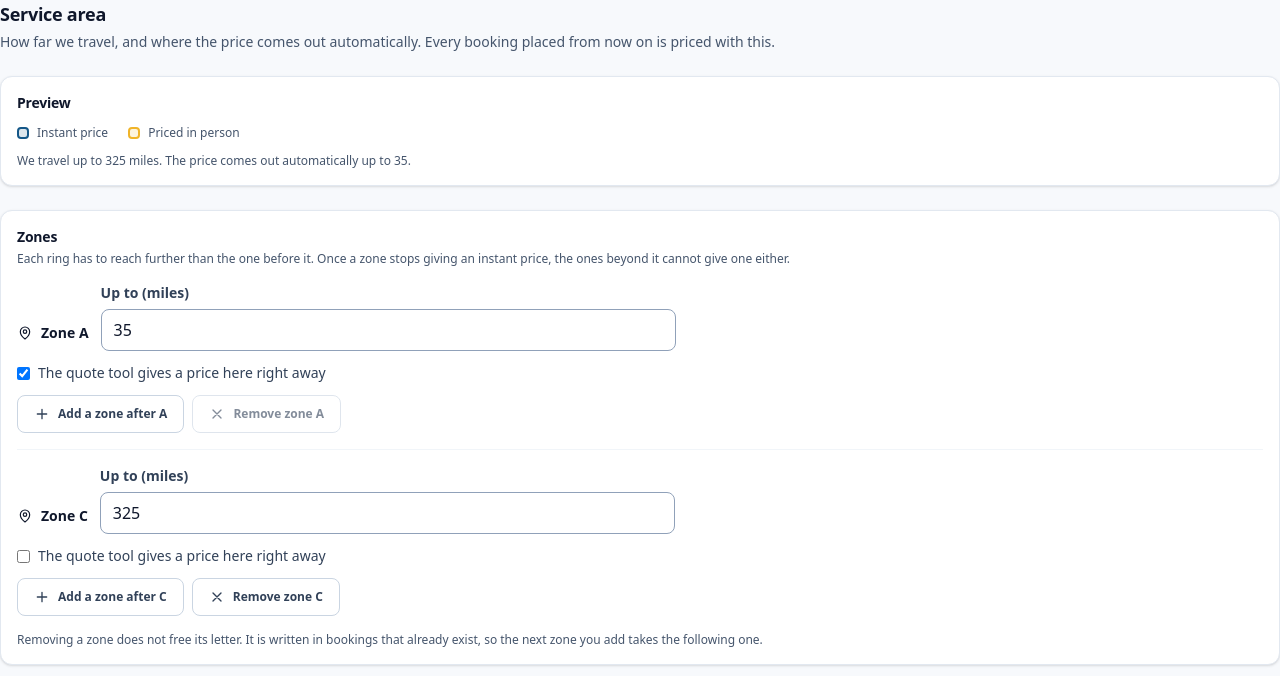
it: el area de servicio: anadir y quitar zonas › anade la banda intermedia entre las dos, a mitad de camino
Click the button "Add a zone after A" at x=101, y=414, box [17,395,184,433]
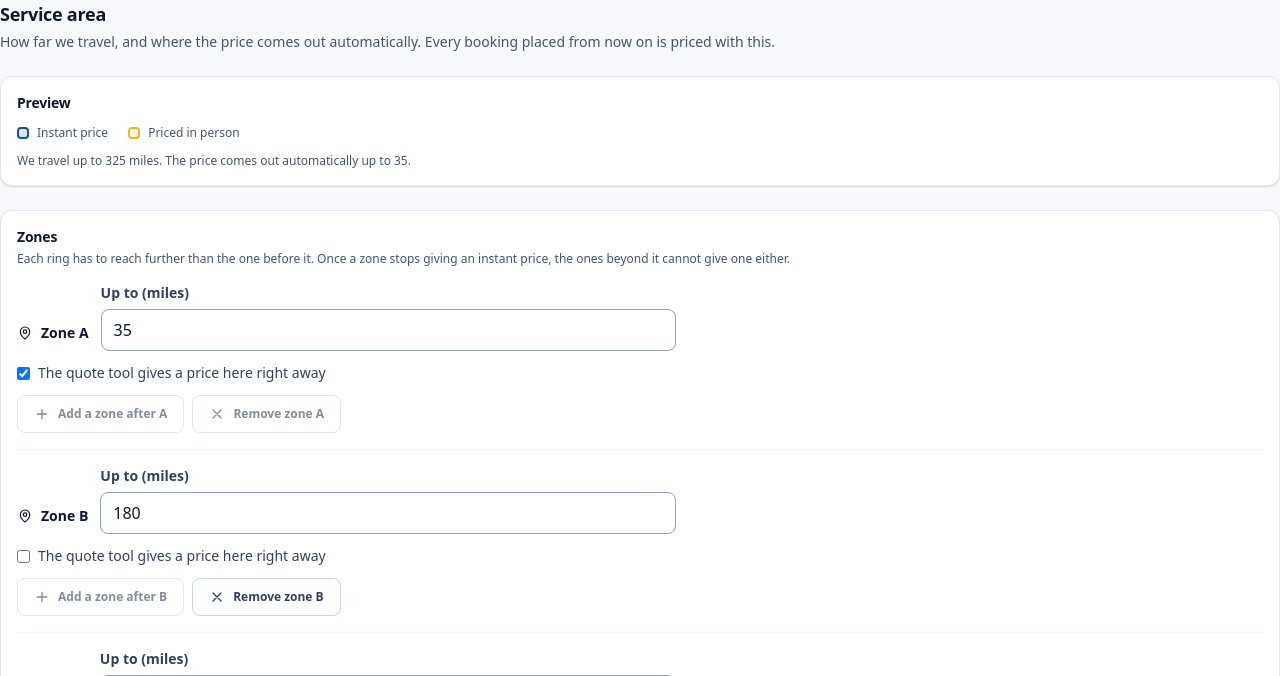
Result: the 2nd number field labelled "Up to (miles)" holds "180" at [100,492,676,534]
